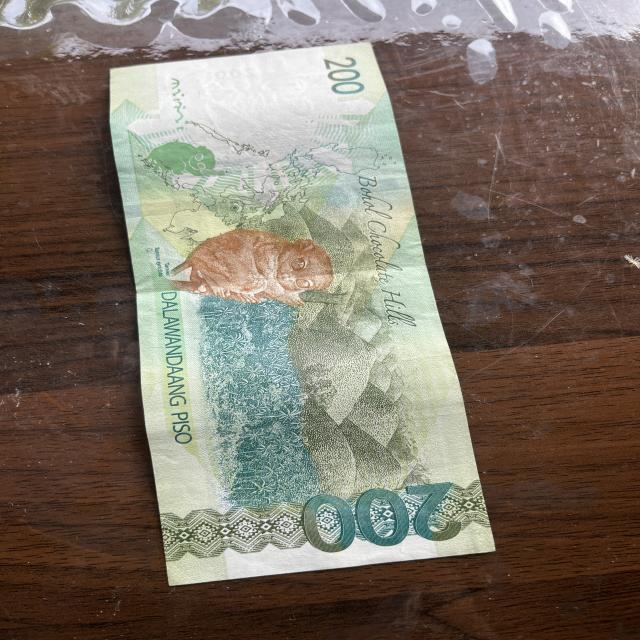200_tarsier: (150, 217, 346, 322)
200_tarsier_watermark: (136, 131, 239, 186)
value_watermark: (211, 63, 259, 82)
